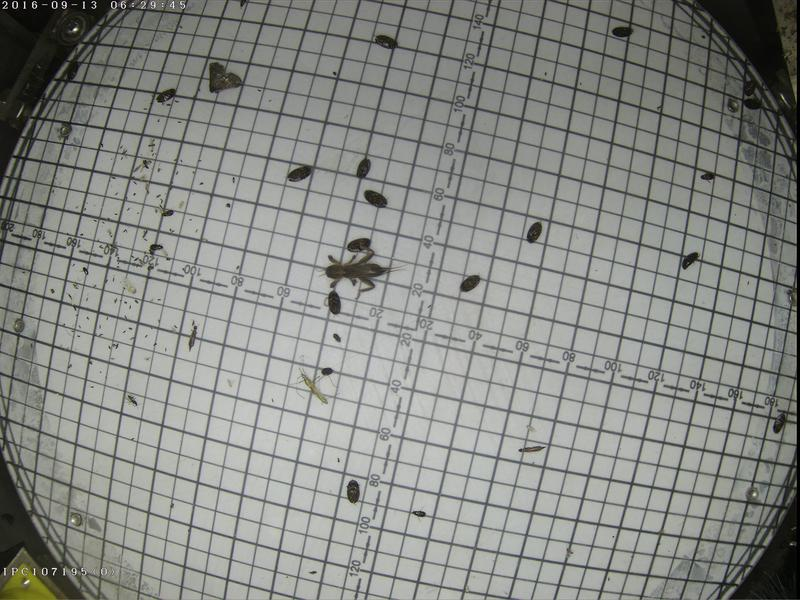Gryllotalpa orientalis: (315, 241, 406, 295)
